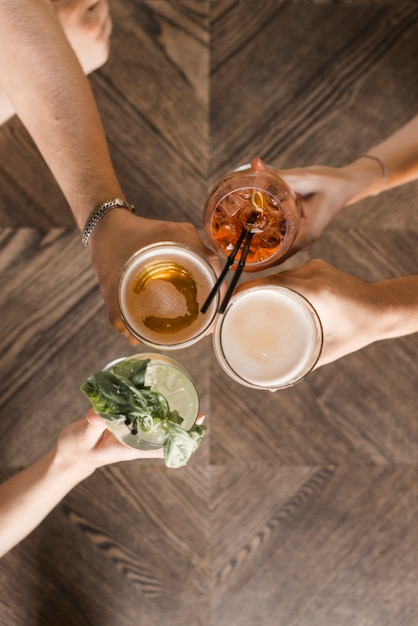alcohol: (80, 355, 210, 470), (195, 163, 305, 273), (215, 284, 325, 394), (115, 241, 224, 350)
